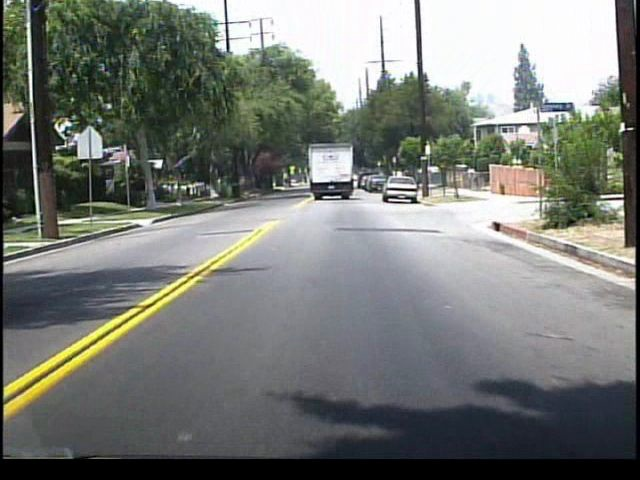person: (465, 165, 476, 191)
